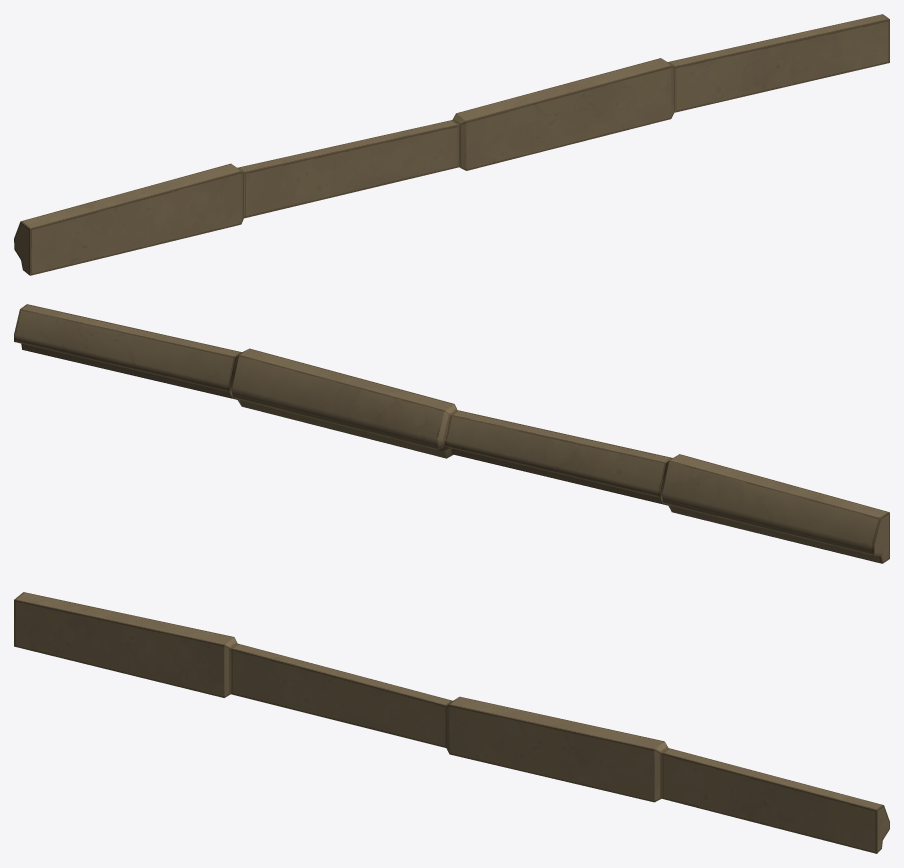
The model's file is SM_building_block_03.glb.
3 renders of one model, top to bottom at view 1: azimuth 30°, elevation 25°; view 2: azimuth 150°, elevation 25°; view 3: azimuth 330°, elevation 25°, orthographic.
Visible parts, largest first — view 1: SM_building_block_03; view 2: SM_building_block_03; view 3: SM_building_block_03.
Boxes of the visible parts, bbox=[...] form: SM_building_block_03: bbox=[14, 14, 889, 275]; SM_building_block_03: bbox=[14, 304, 889, 563]; SM_building_block_03: bbox=[14, 592, 889, 853].
Size of the model in its own units: 6 by 0.3702 by 0.2078.
Materials: 1 (1 with a texture image).
